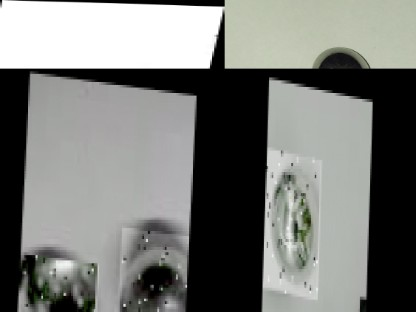ironball: (262, 146, 321, 295), (117, 223, 190, 312), (18, 252, 99, 312), (314, 45, 372, 66), (358, 291, 367, 312), (210, 32, 219, 47), (201, 67, 212, 68)
